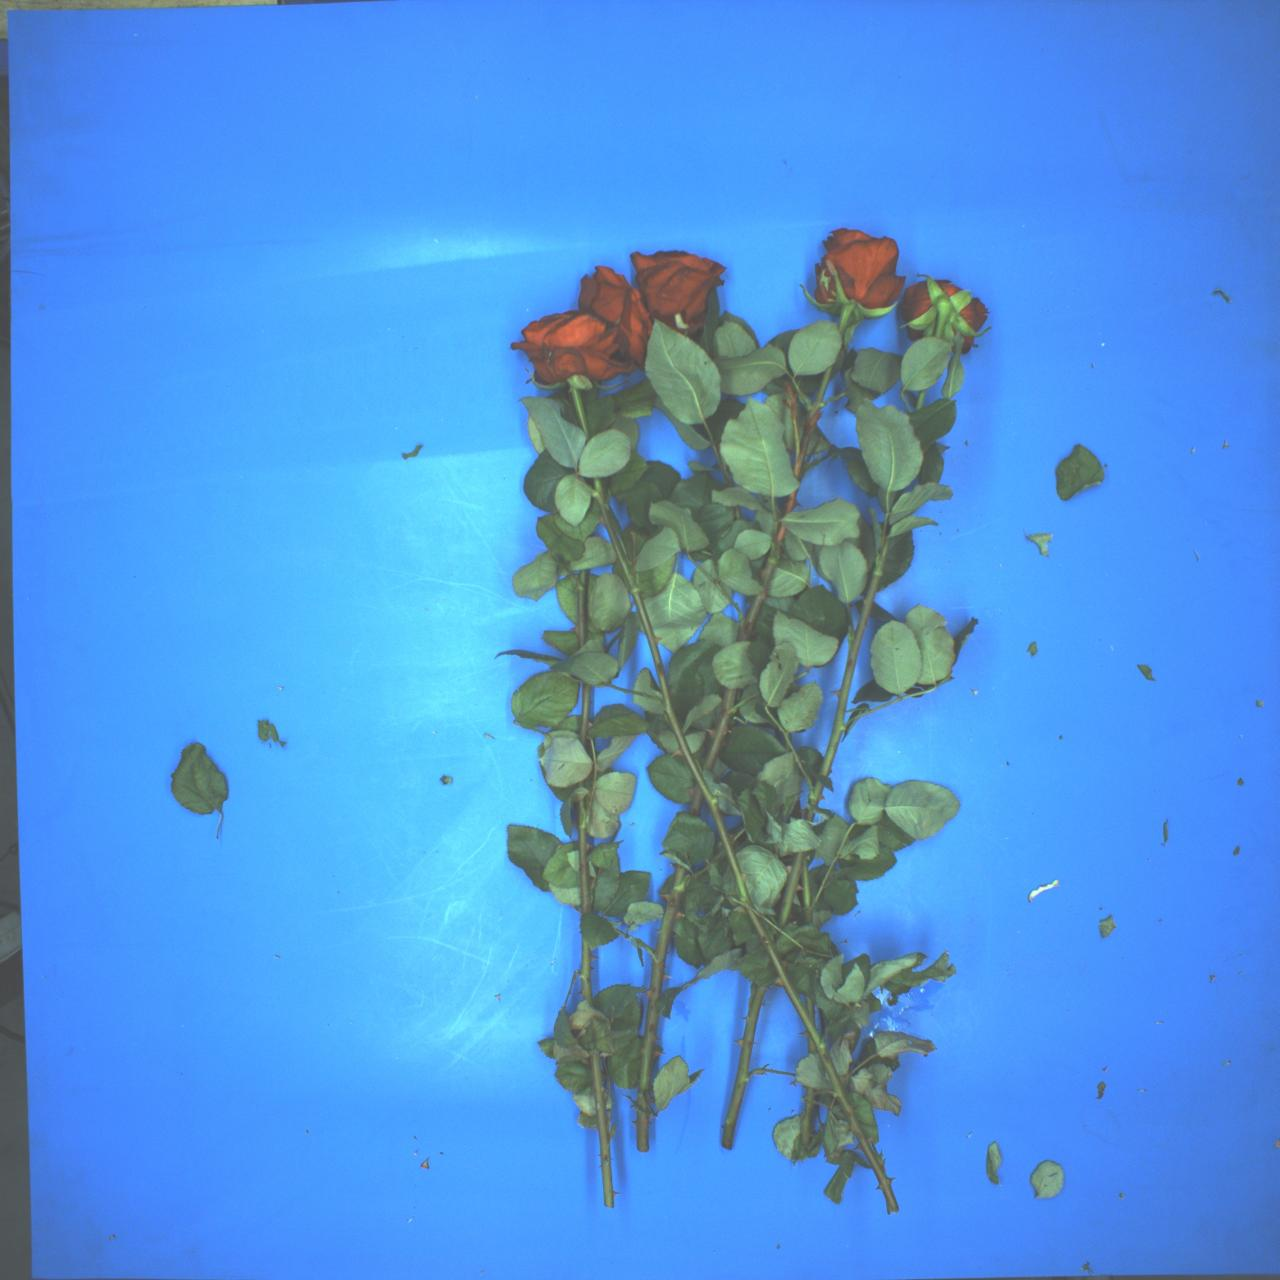Stem: (584, 475, 753, 910), (738, 899, 905, 1217), (819, 533, 891, 776), (627, 865, 686, 1152), (717, 979, 769, 1151), (736, 524, 794, 642), (794, 362, 835, 464), (590, 1057, 617, 1208), (700, 687, 738, 771), (772, 850, 808, 927), (566, 375, 592, 441), (577, 796, 591, 911), (577, 568, 590, 649), (801, 1089, 817, 1150), (577, 942, 593, 1001), (831, 301, 856, 338), (931, 300, 953, 340), (687, 781, 706, 817), (580, 682, 590, 751), (799, 865, 813, 911), (782, 488, 798, 520), (790, 456, 803, 478), (805, 994, 815, 1021), (915, 389, 926, 413)
flower: (561, 256, 674, 376), (612, 231, 729, 339), (509, 307, 634, 387), (811, 226, 910, 318), (892, 271, 994, 356)
